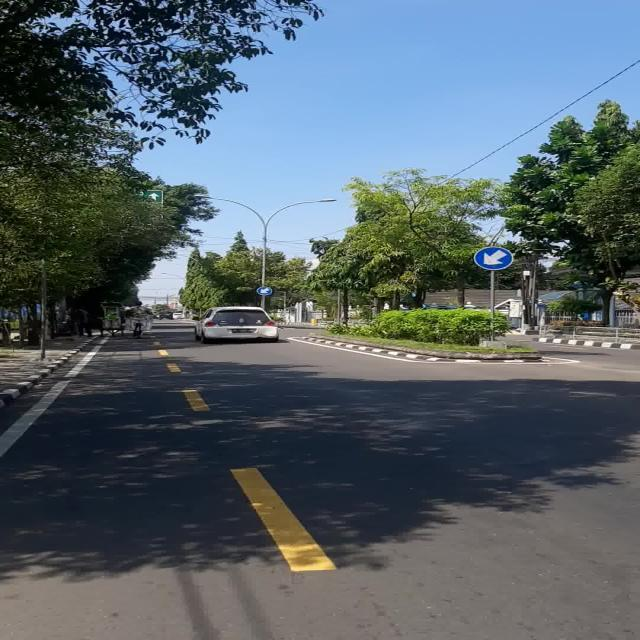Lajur Kiri: (474, 247, 514, 270)
